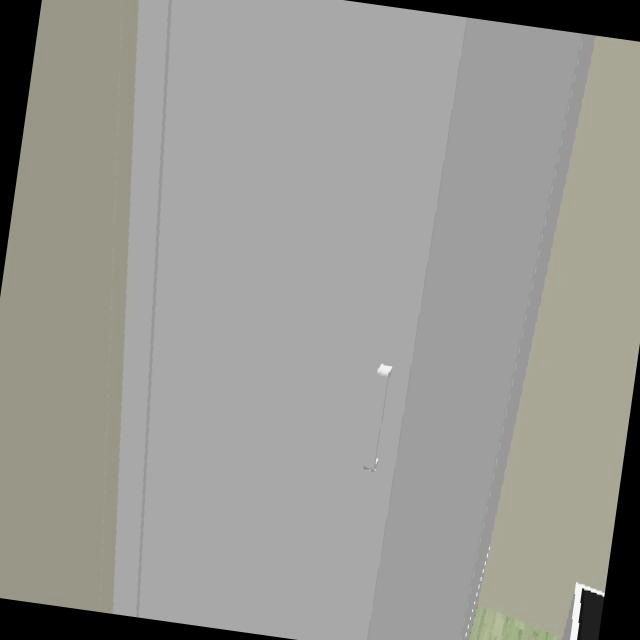shower: (109, 0, 595, 640)
